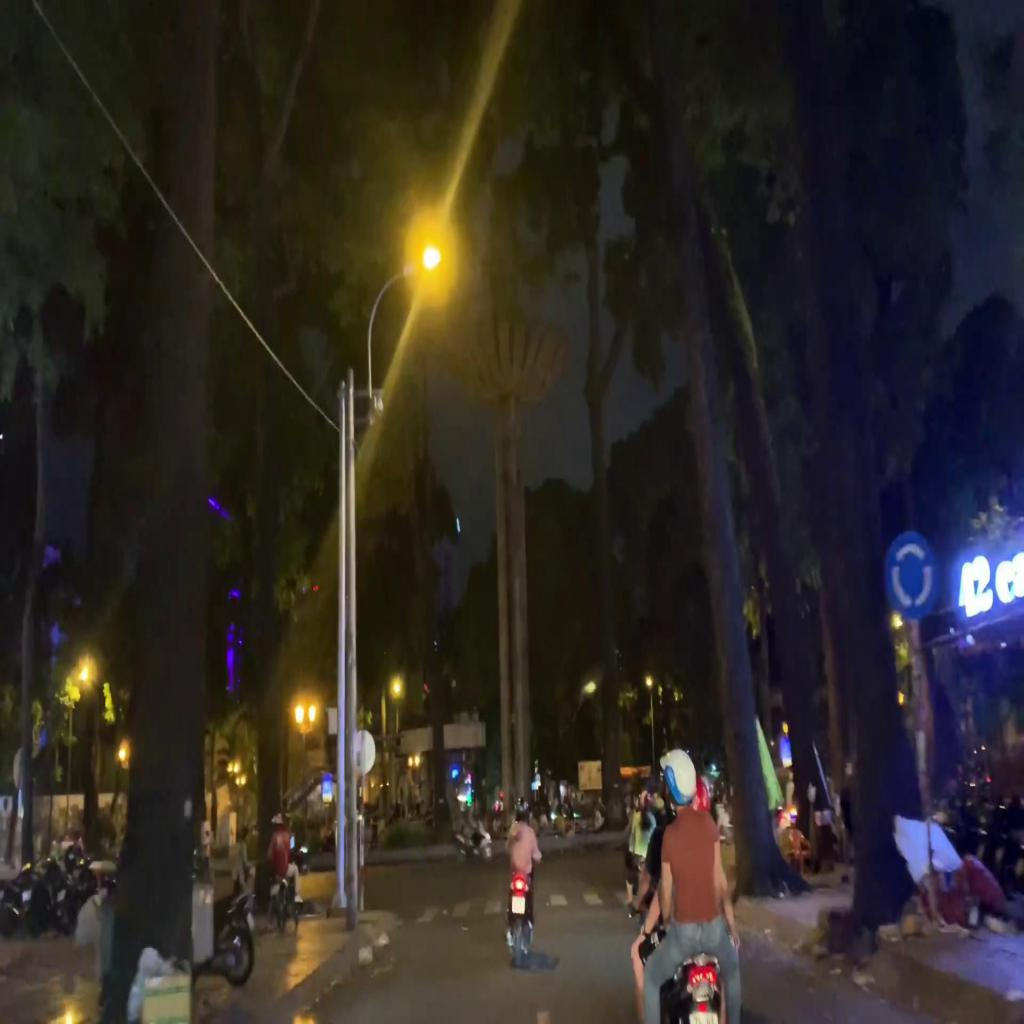noi_giao_nhau_chay_theo_vong: (882, 528, 940, 622)
